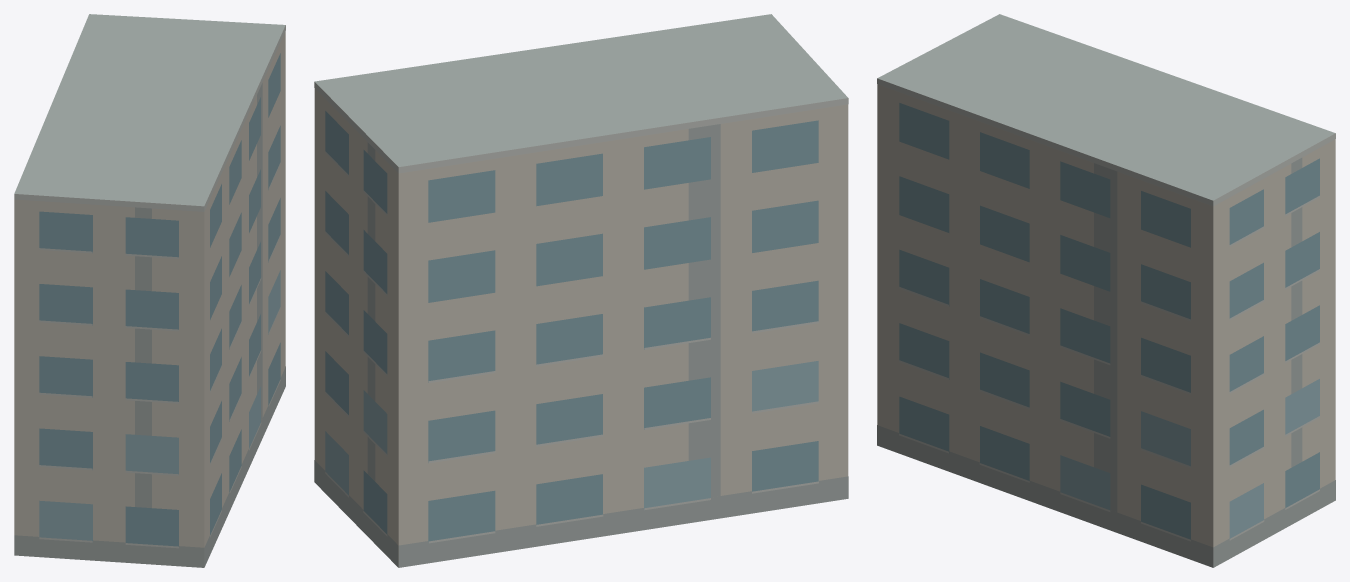
Rendered from survey-upis-32931967.glb.
3 views of the same model, side by side, from view 1: azimuth 30°, elevation 25°; view 2: azimuth 150°, elevation 25°; view 3: azimuth 270°, elevation 25° (orthographic). The views are drawn at different scales.
Visible parts, largest first — view 1: survey-upis-32931967.tmp; view 2: survey-upis-32931967.tmp; view 3: survey-upis-32931967.tmp.
Boxes of the visible parts, x1,y1,x2,y2 form: survey-upis-32931967.tmp: (14,14,285,567); survey-upis-32931967.tmp: (314,14,848,567); survey-upis-32931967.tmp: (877,14,1335,567).
Size of the model in its own units: 17.07 by 15.65 by 17.72.
